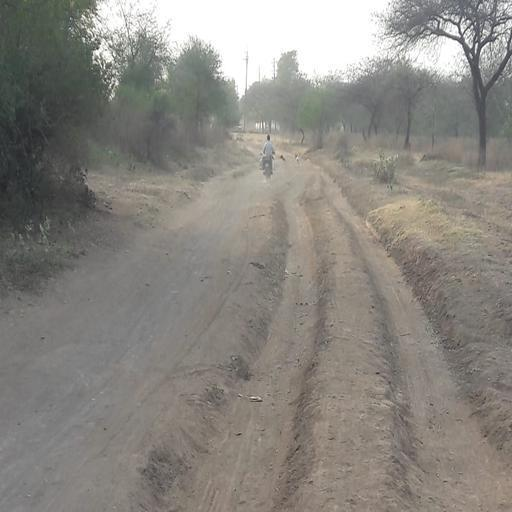vehicle_track: (0, 183, 269, 512), (325, 175, 512, 512), (149, 177, 321, 512)
